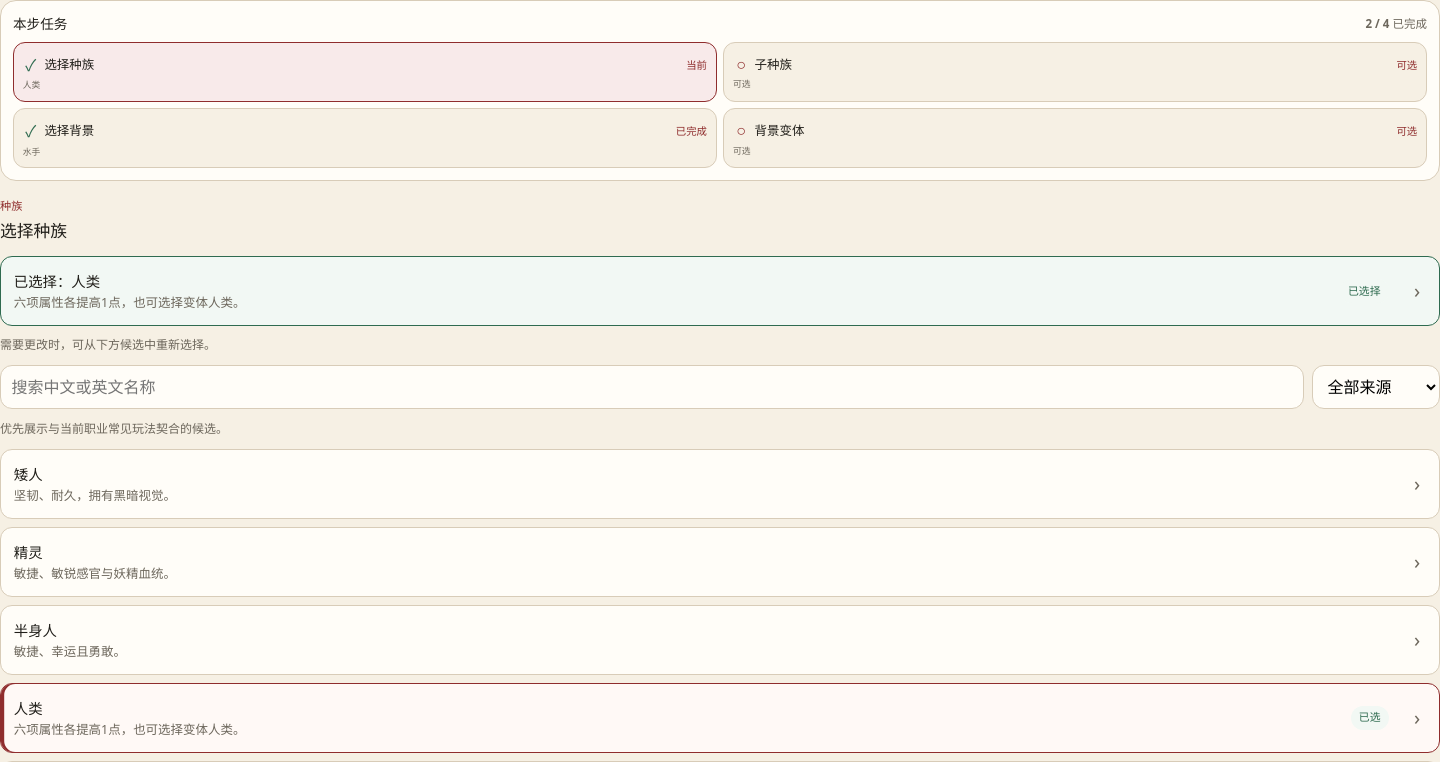
Test: OriginStep 动态任务与候选目录 › 背景变体是可选任务，不参与必选门禁
The image size is (1440, 762).
Step 1. Click the tab "○ 背景变体 可选 可选" → x=780, y=131, box [723,108,1427,168]
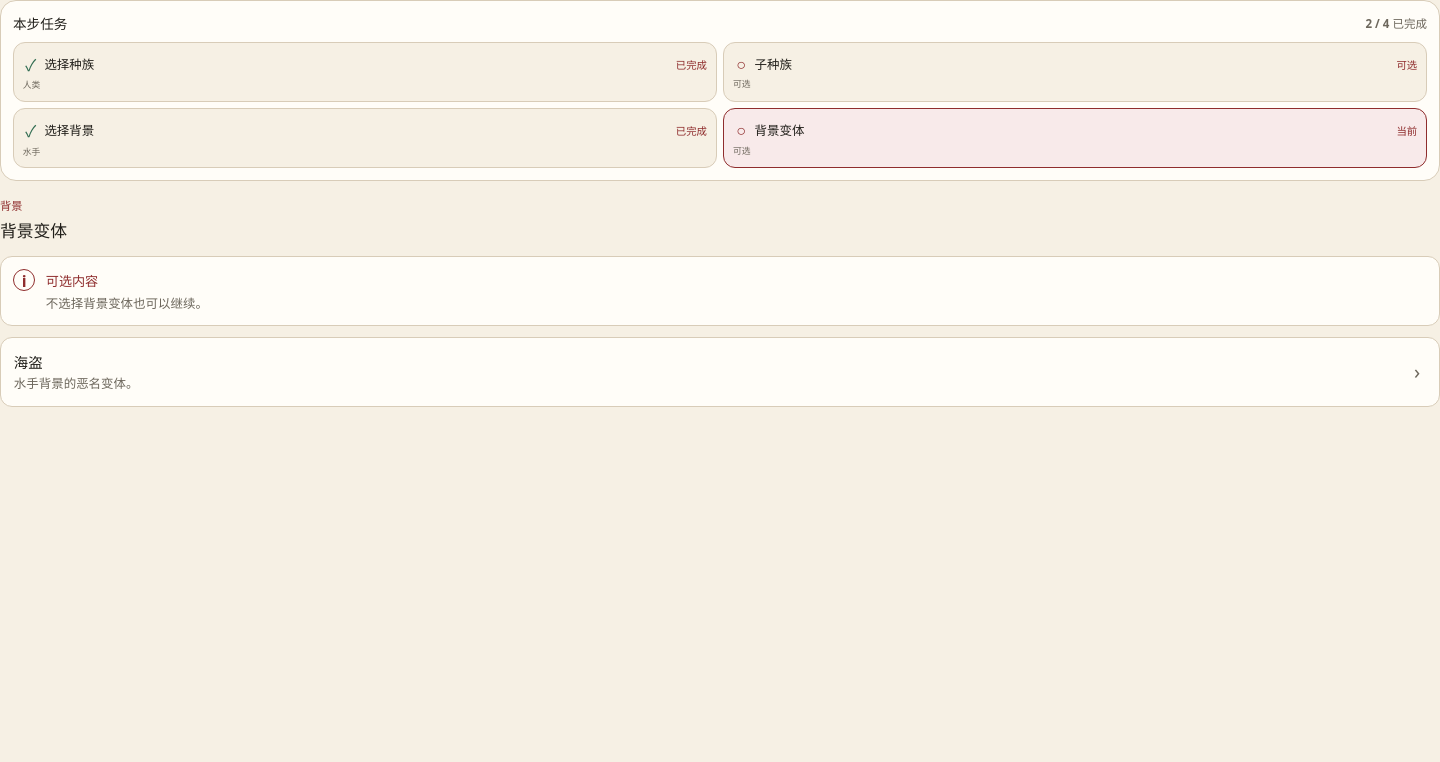
Check: the text "海盗" is shown, box [14,351,43,372]
Check: the text "不选择背景变体也可以继续" is shown, box [46,295,208,312]
